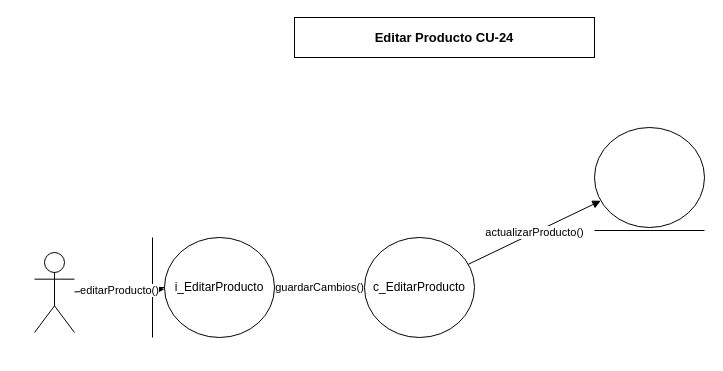
Image size: 723x371. Some labels were removed from this diagram. The centre of each missing label's shape, as x and y in pixels:
Administrador: pixel 54 292
e_producto: pixel 649 177
